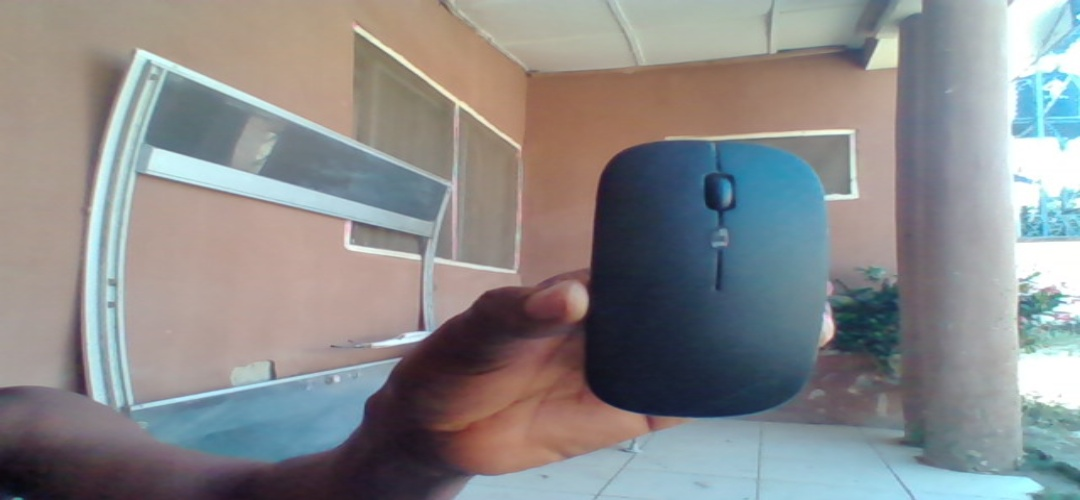wireless_mouse: (578, 136, 827, 420)
